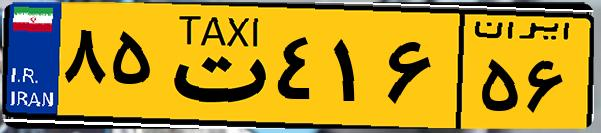1: (330, 28, 385, 110)
4: (270, 28, 330, 110)
5: (475, 38, 525, 113), (110, 28, 158, 98)
6: (385, 28, 445, 110), (525, 38, 570, 115)
8: (57, 26, 110, 100)
ت: (158, 12, 270, 120)
